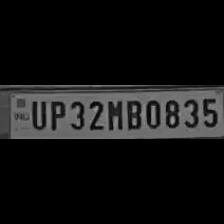0: (142, 97, 162, 129)
2: (86, 98, 104, 132)
3: (66, 98, 86, 132), (182, 96, 198, 128)
5: (199, 95, 219, 129)
8: (162, 97, 180, 129)
B: (124, 97, 142, 131)
M: (104, 97, 124, 132)
P: (46, 97, 66, 131)
U: (28, 98, 44, 130)
